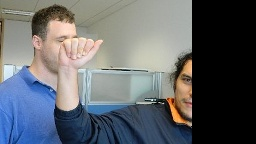Pugno: (54, 36, 104, 66)
